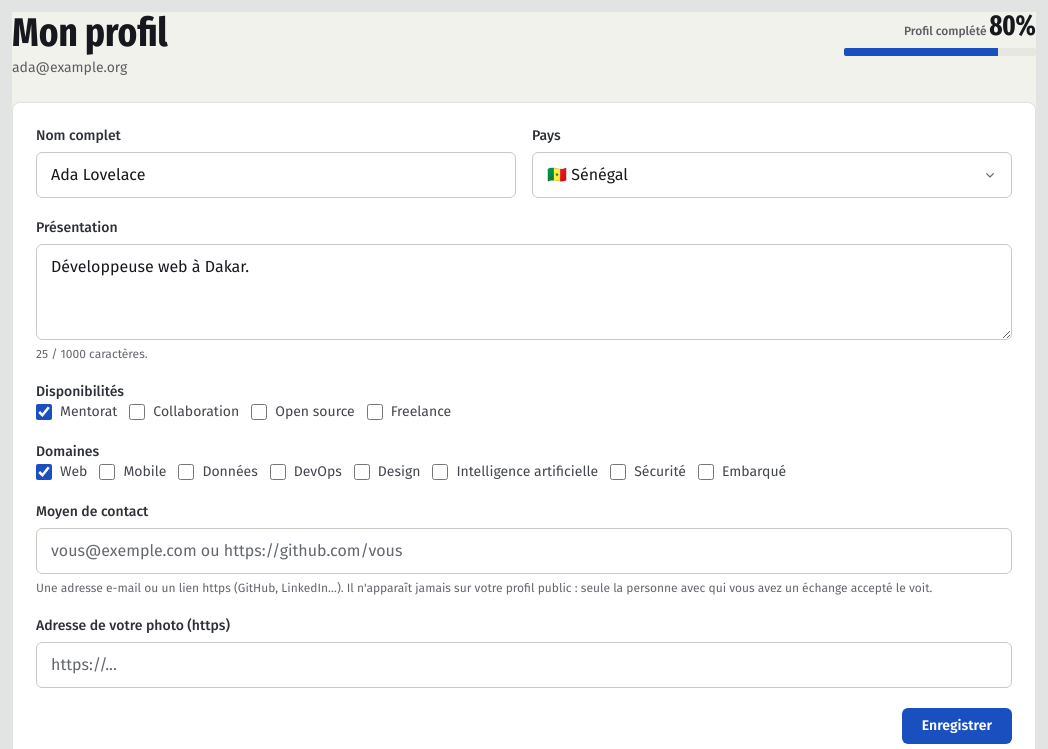
Test case: mon profil › enregistre les modifications
Expected: the field showing "Ada Lovelace" is shown, [36,152,516,198]
Click the checkbox labelled "Freelance".
click(375, 412)  # box [367,404,383,420]
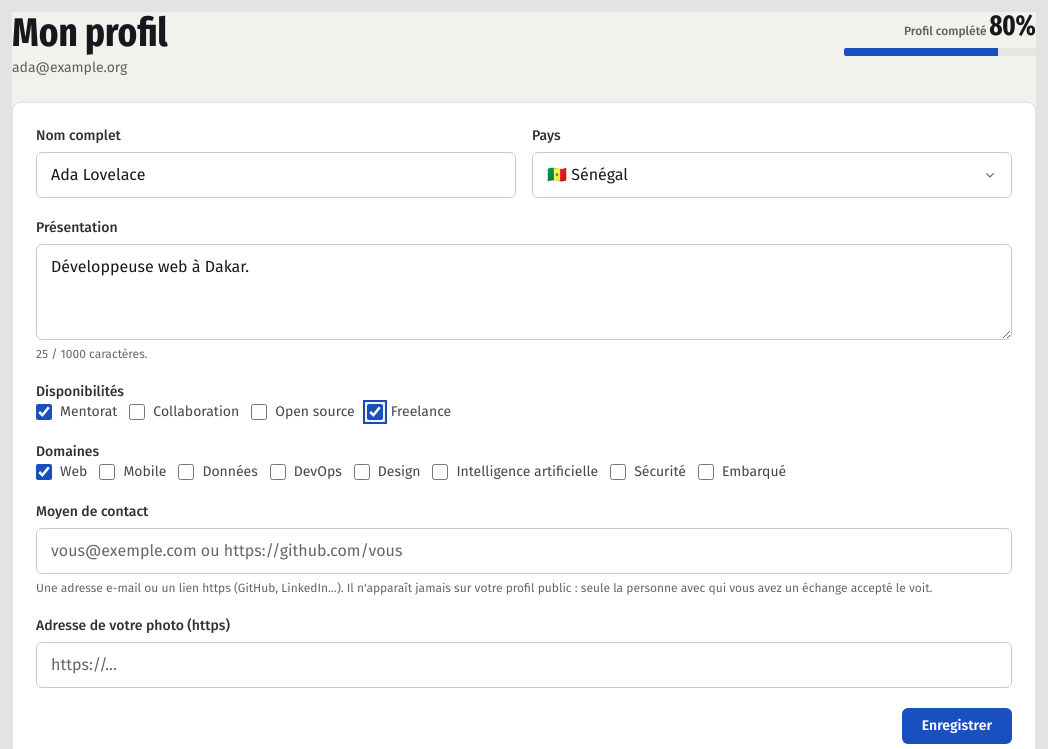
Click the button "Enregistrer".
click(957, 726)  # box [902,708,1012,744]
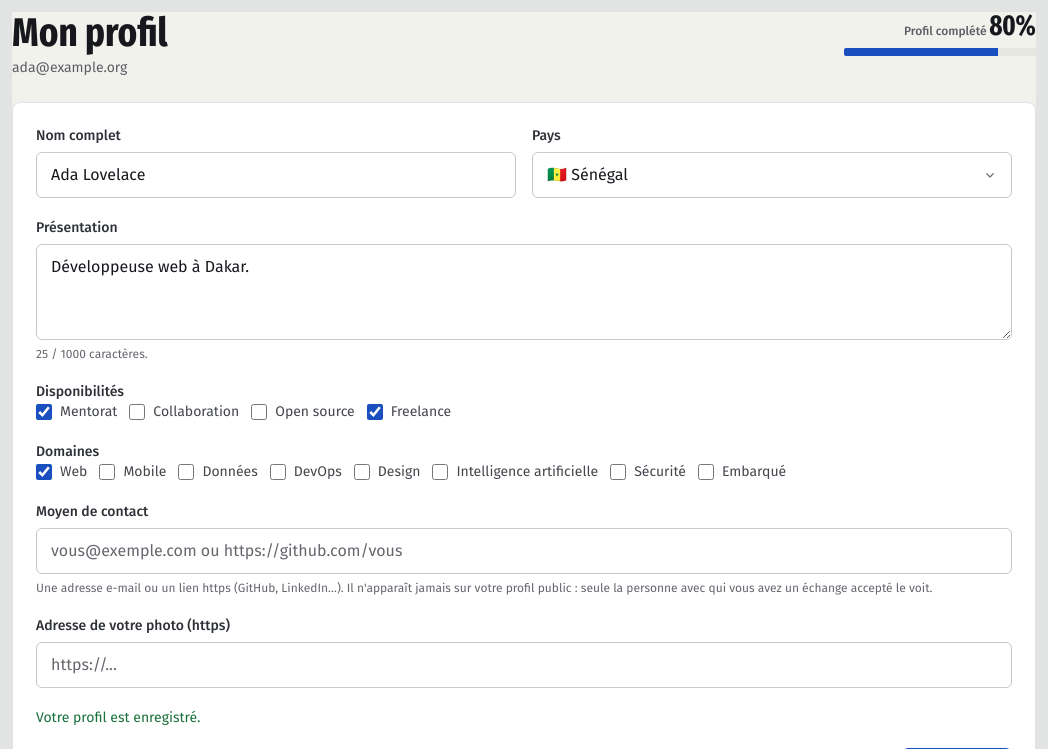
Now the message shows "enregistré", box [36,709,200,726]
